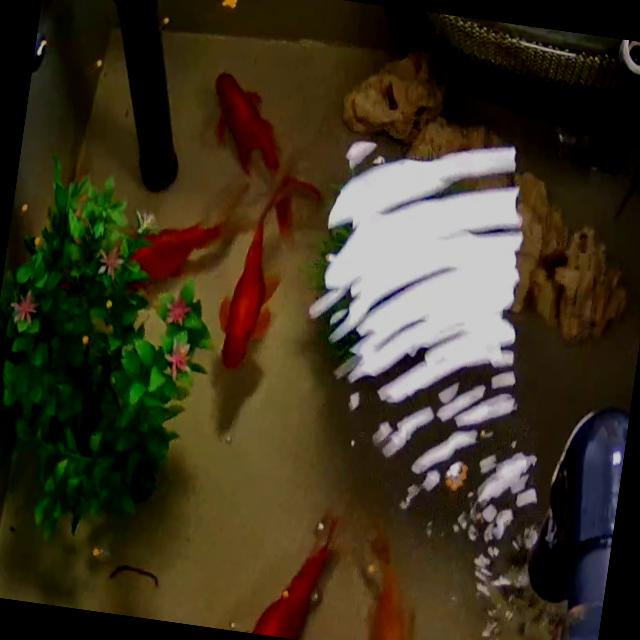fish: (194, 70, 350, 240), (211, 190, 294, 372), (239, 506, 336, 640), (121, 203, 232, 298), (349, 522, 427, 640)
